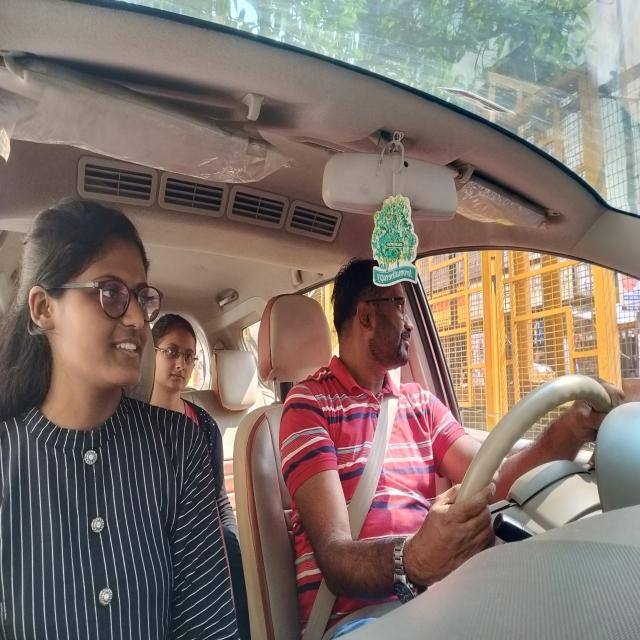LeftRight: (332, 255, 419, 393)
person: (29, 196, 163, 431), (158, 312, 198, 404)
talking: (110, 335, 146, 359)
